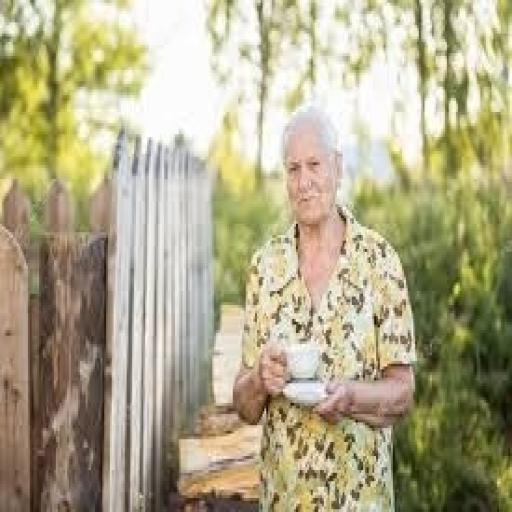drinking: (191, 116, 447, 416)
